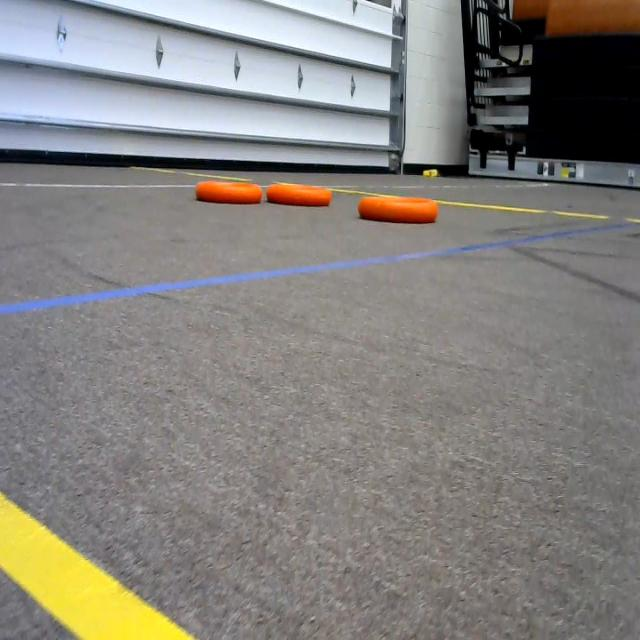note: (358, 190, 447, 233), (263, 170, 336, 212), (194, 173, 270, 213)
